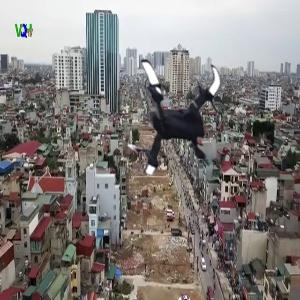drone: (104, 52, 246, 194)
